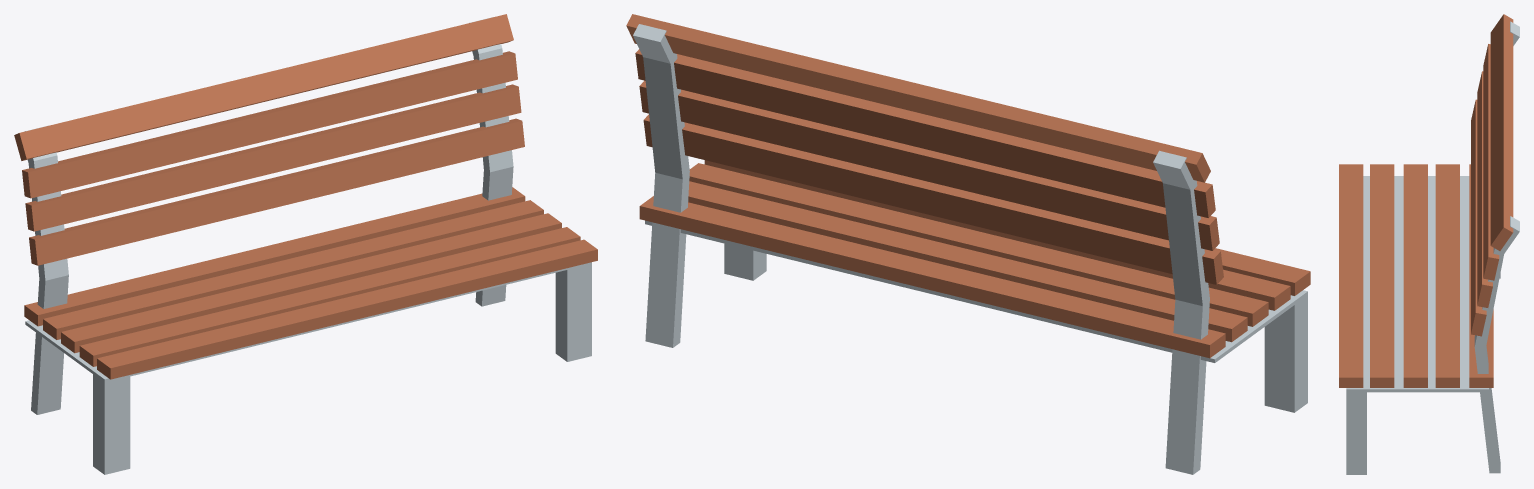
File: bench.obj
3 renders of one model, left to right at view 1: azimuth 30°, elevation 25°; view 2: azimuth 150°, elevation 25°; view 3: azimuth 270°, elevation 25°, orthographic. The views are drawn at different scales.
Parts seen in each view (by area): view 1: bench; view 2: bench; view 3: bench.
Part boxes in pixels (x1,y1,x2,y2): bench: (14, 14, 597, 474); bench: (626, 14, 1310, 474); bench: (1339, 14, 1519, 474).
Size of the model in its own units: 1.07 by 0.5819 by 0.3813.
